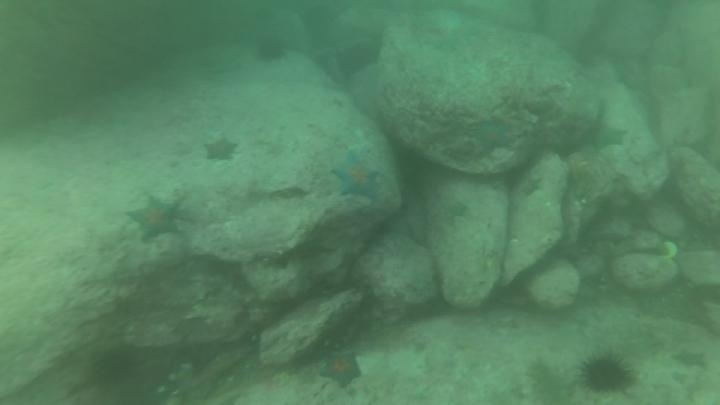echinus: (577, 351, 636, 396), (88, 344, 140, 389), (335, 39, 380, 78), (252, 33, 290, 66)
starfish: (124, 193, 185, 244), (329, 150, 384, 203), (317, 349, 364, 389), (579, 118, 629, 154), (470, 118, 515, 155), (201, 134, 240, 164), (669, 345, 710, 372), (437, 196, 471, 226), (516, 172, 545, 200)
